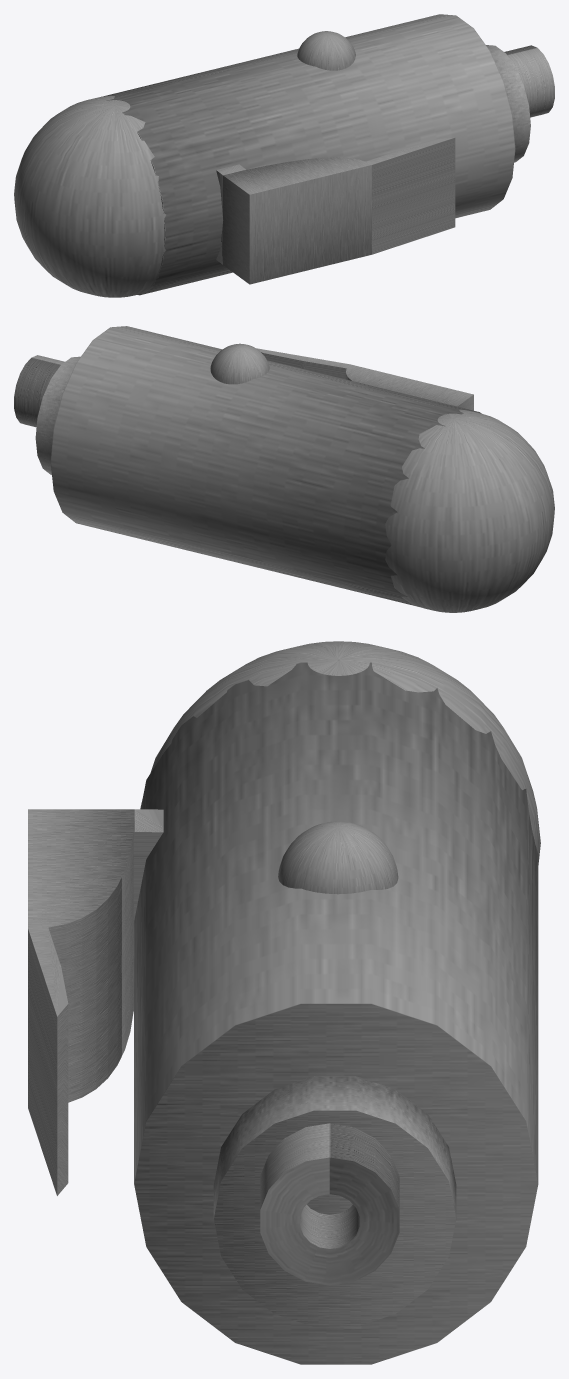
Rendered from TelluriumArgonObject.DAE.
3 renders of one model, top to bottom at view 1: azimuth 30°, elevation 25°; view 2: azimuth 150°, elevation 25°; view 3: azimuth 270°, elevation 25°, orthographic. The views are drawn at different scales.
Parts seen in each view (by area): view 1: Cylinder001; view 2: Cylinder001; view 3: Cylinder001.
Boxes of the visible parts, <box> form: Cylinder001: <box>14,14,554,297</box>; Cylinder001: <box>14,326,554,612</box>; Cylinder001: <box>28,641,540,1364</box>.
Bounding box in the file's own units: 11.43 × 4.99 × 4.36.
Materials: 1 (1 with a texture image).
